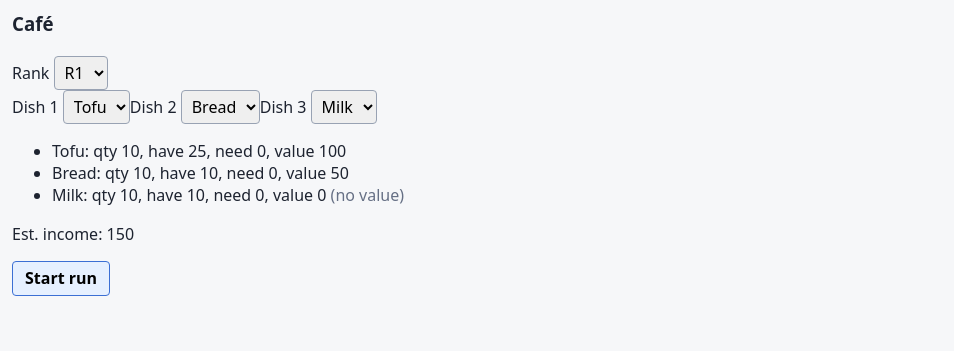
it: CafePanel › Start run deducts dishes and then hides Start
Click the button "Start run" at (61, 278), box x1=12 y1=261 x2=110 y2=296
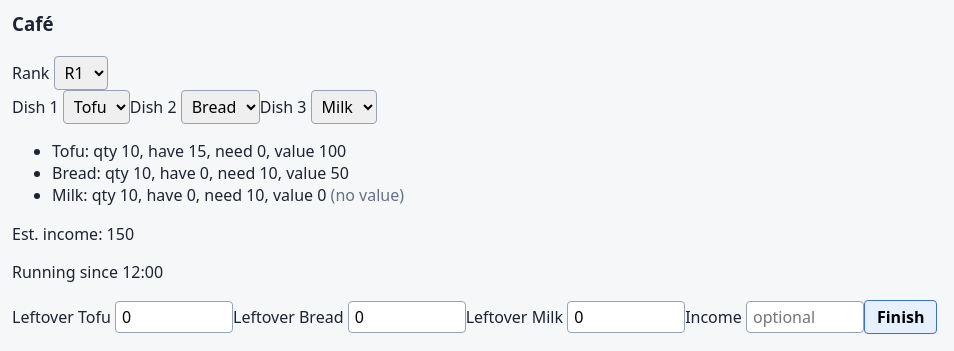
expect the text "Running since 12:00" is shown: met, box x1=12 y1=261 x2=163 y2=283
expect the button "Start run" is gone: met
